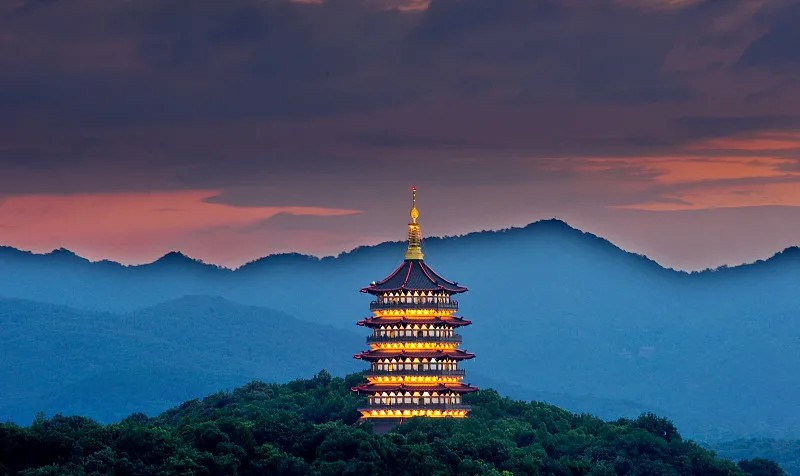Leifeng: (347, 184, 480, 436)
